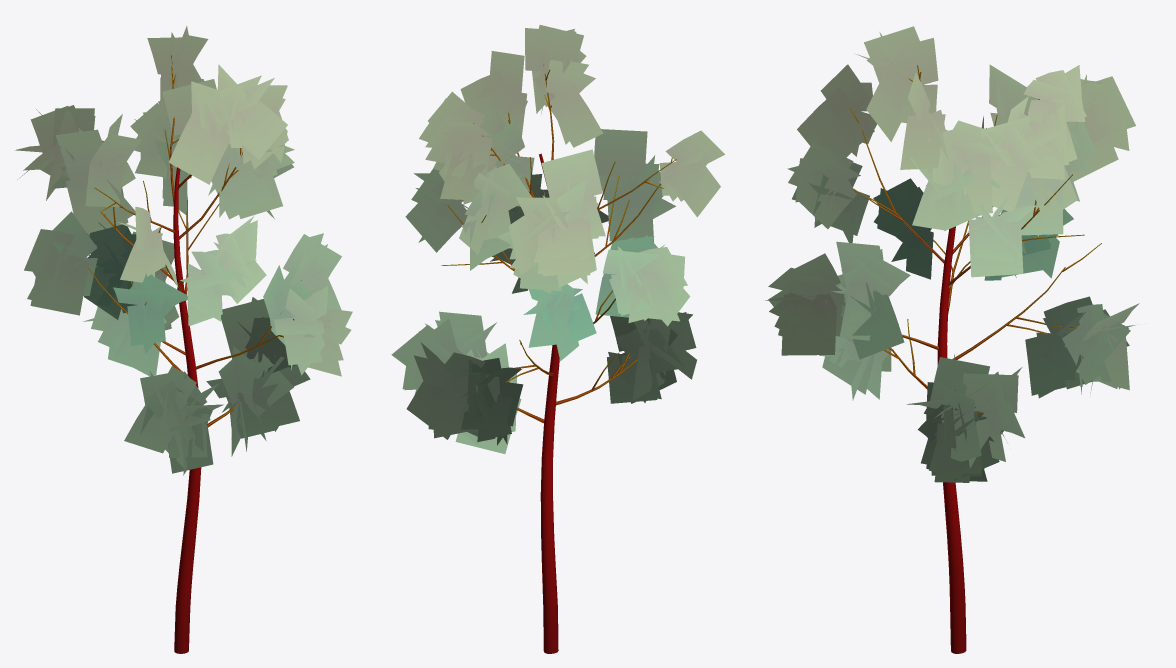
The model's file is rowan.glb.
3 views of the same model, side by side, from view 1: azimuth 30°, elevation 25°; view 2: azimuth 150°, elevation 25°; view 3: azimuth 270°, elevation 25° (orthographic). The views are drawn at different scales.
Parts seen in each view (by area): view 1: LOD0; view 2: LOD0; view 3: LOD0.
Part boxes in pixels (x1,y1,x2,y2): LOD0: (15,26,352,653); LOD0: (391,25,724,653); LOD0: (765,26,1139,653).
Size of what is drawn, in the model's own units: 4.27 by 8.45 by 4.82.
